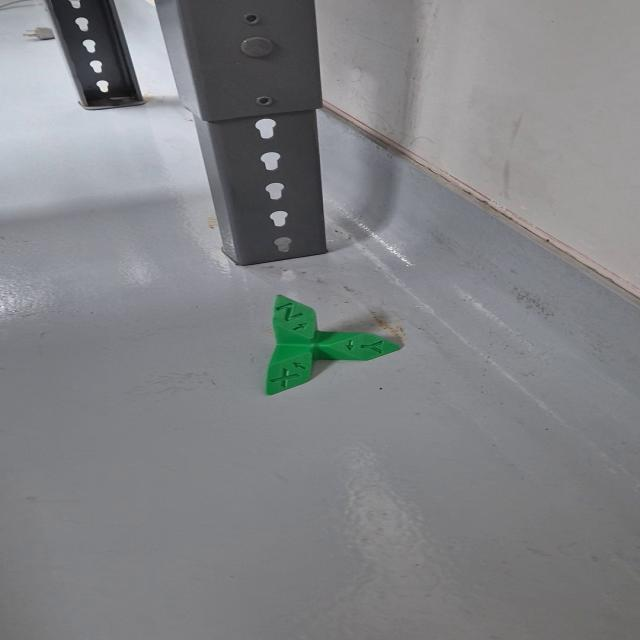objects: (240, 290, 413, 399)
